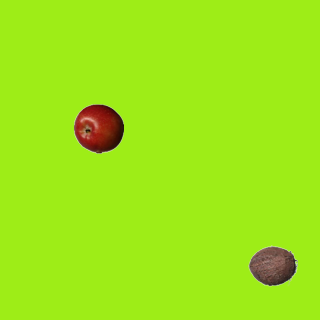Apple Braeburn: (73, 103, 123, 153)
Cocos: (247, 240, 297, 290)
